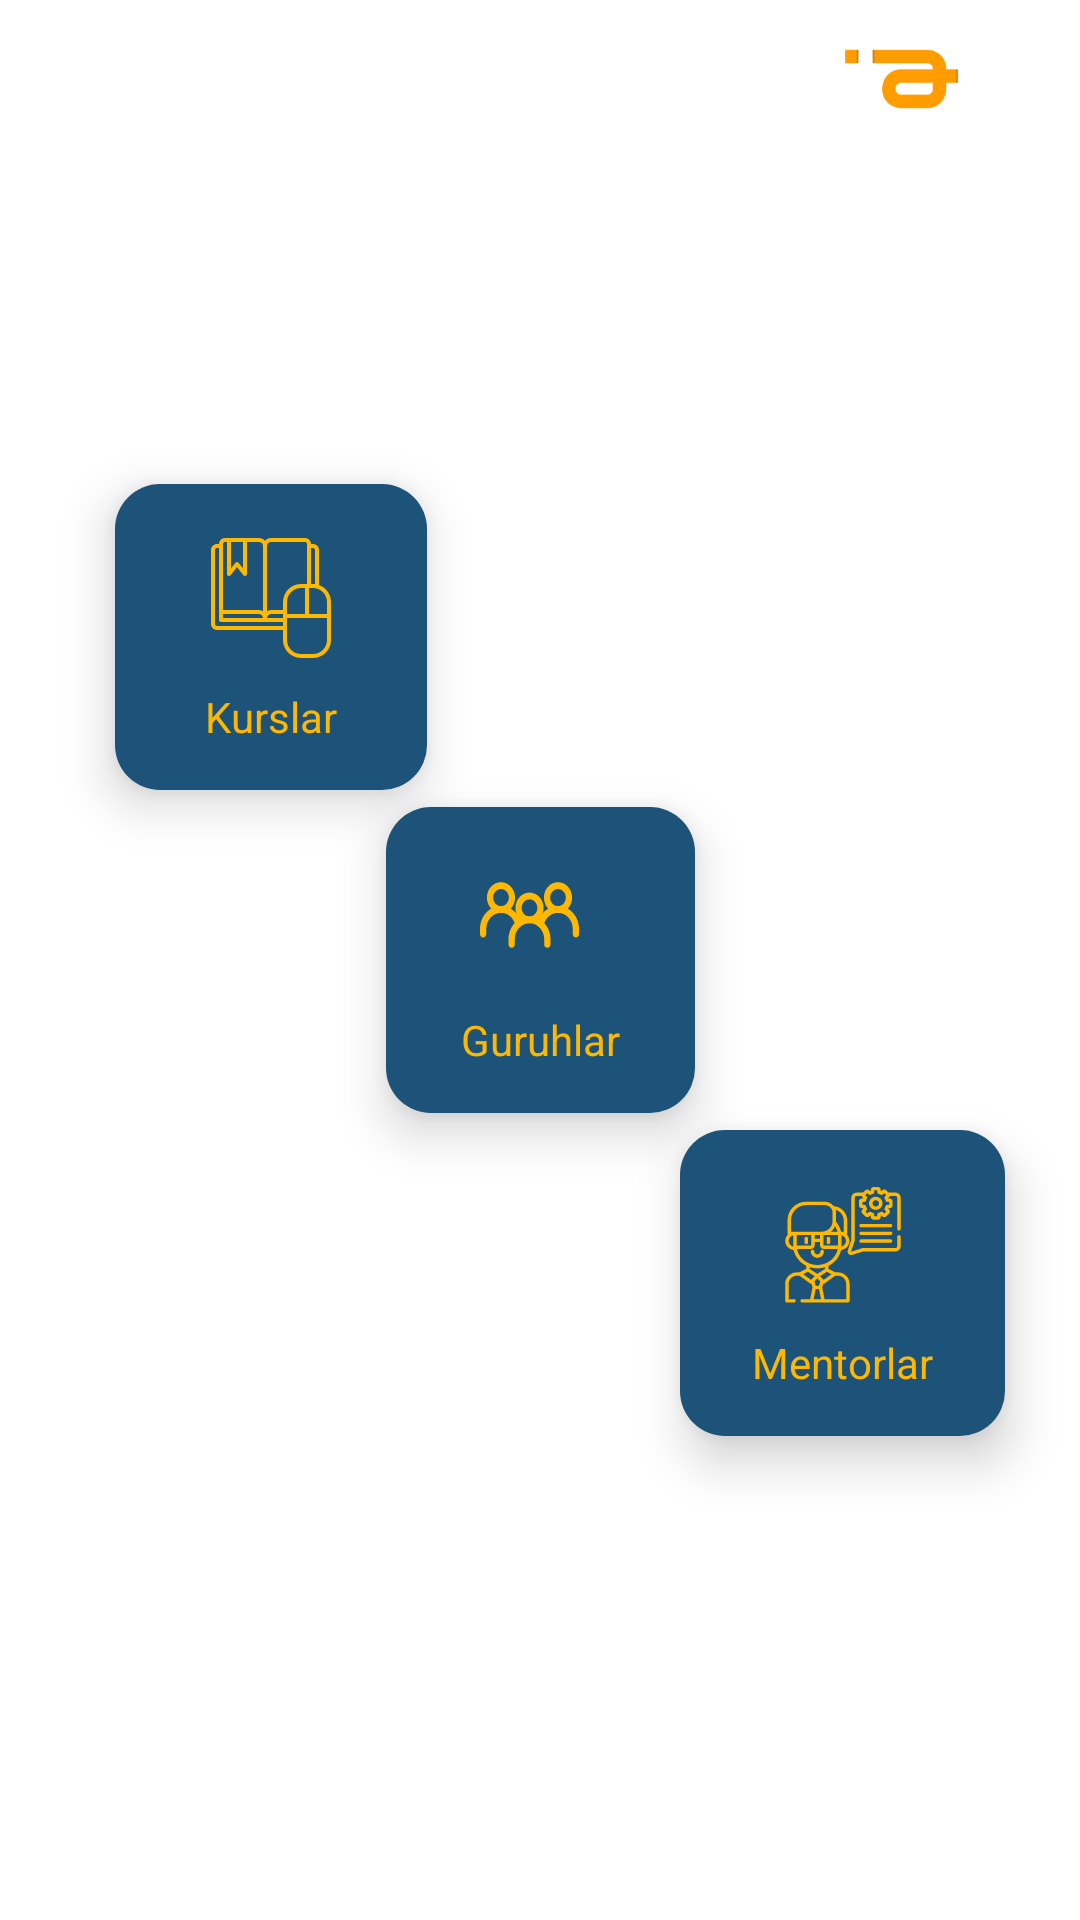

Where icons sit on this 1080px x 1920px app screen, as (x1, y1, x2, y2):
people: (480, 882, 579, 948)
